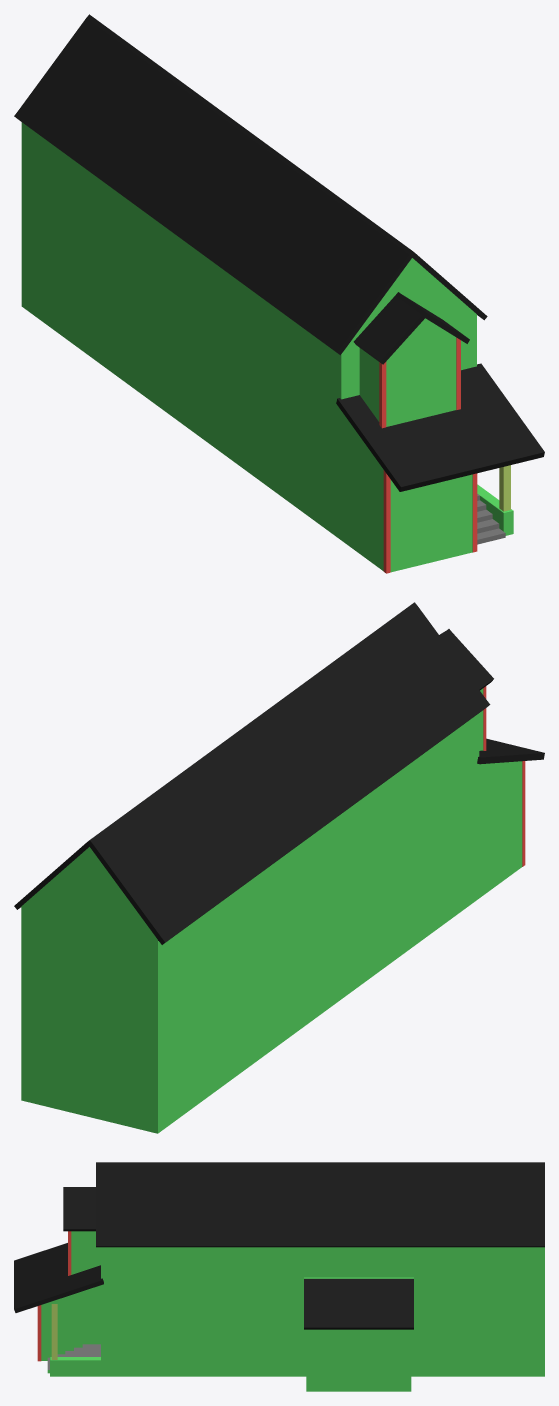
File: House_2.fbx
The picture shows the model from 3 angles, top to bottom: view 1: azimuth 30°, elevation 25°; view 2: azimuth 150°, elevation 25°; view 3: azimuth 270°, elevation 25°; orthographic projection. The views are drawn at different scales.
Visible parts, largest first — view 1: House; view 2: House; view 3: House.
Part boxes in pixels (x1,y1,x2,y2): House: (14,14,544,573); House: (14,602,544,1133); House: (14,1162,544,1391).
Size of the model in its own units: 682 by 887 by 2230.
